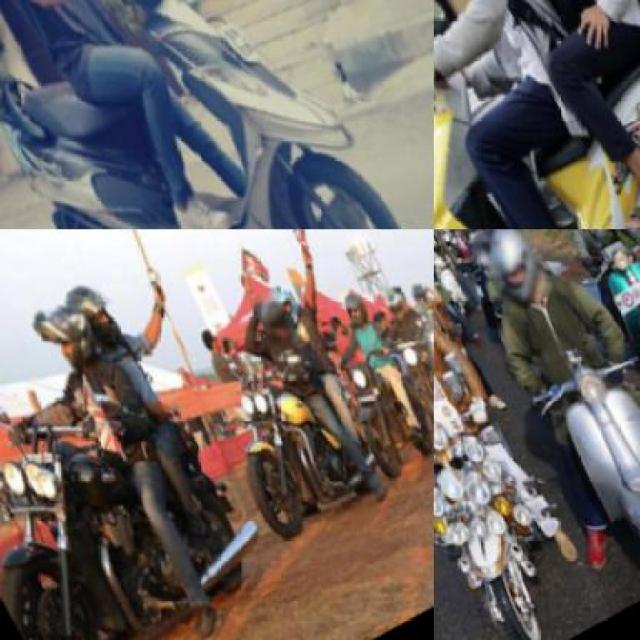With Helmet: (468, 230, 562, 316), (30, 291, 112, 383), (57, 272, 129, 354), (249, 285, 306, 352), (337, 283, 380, 331), (377, 277, 415, 325)
